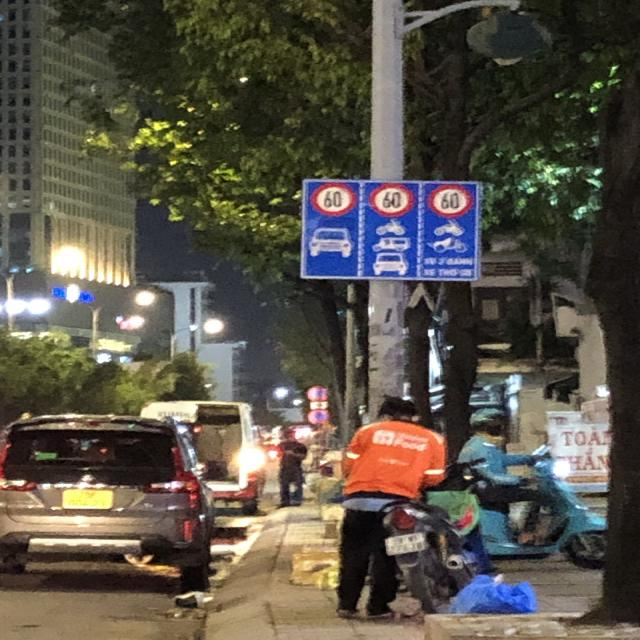Bien bao toc do toi da cho phep: (425, 180, 476, 219), (311, 180, 358, 218), (369, 181, 416, 218)
